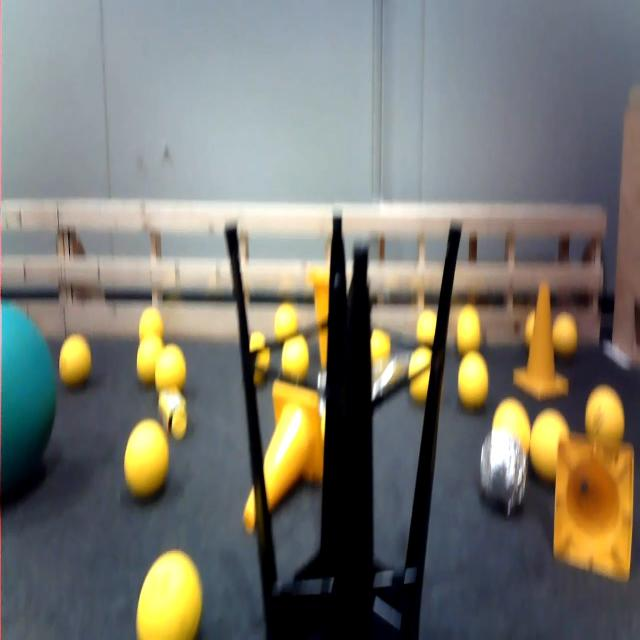fuel: (134, 543, 204, 640), (116, 407, 179, 496), (489, 384, 532, 470), (580, 371, 628, 445), (530, 399, 574, 478), (406, 333, 444, 422), (53, 319, 99, 388), (453, 340, 490, 413), (278, 323, 319, 385), (449, 297, 486, 362), (154, 334, 190, 399), (132, 287, 171, 345), (412, 300, 448, 356), (133, 332, 168, 388), (549, 296, 576, 366), (366, 315, 395, 373), (268, 300, 299, 345)
